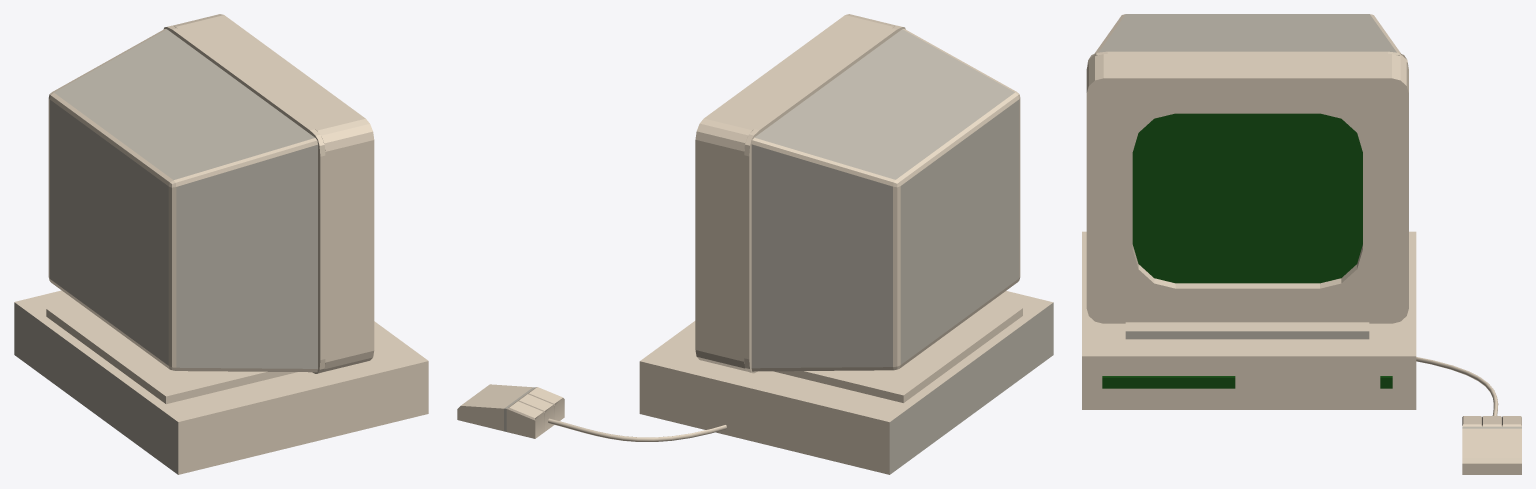
Rendered from OldPC.glb.
3 renders of one model, left to right at view 1: azimuth 30°, elevation 25°; view 2: azimuth 150°, elevation 25°; view 3: azimuth 270°, elevation 25°, orthographic. The views are drawn at different scales.
Parts seen in each view (by area): view 1: Plane.002; view 2: Plane.002; view 3: Plane.002.
Part boxes in pixels (box(x1,y1,x2,y2)): Plane.002: box(14, 14, 428, 474); Plane.002: box(457, 14, 1053, 474); Plane.002: box(1082, 14, 1521, 474).
Size of the model in its own units: 0.6807 by 0.5119 by 0.6678.
